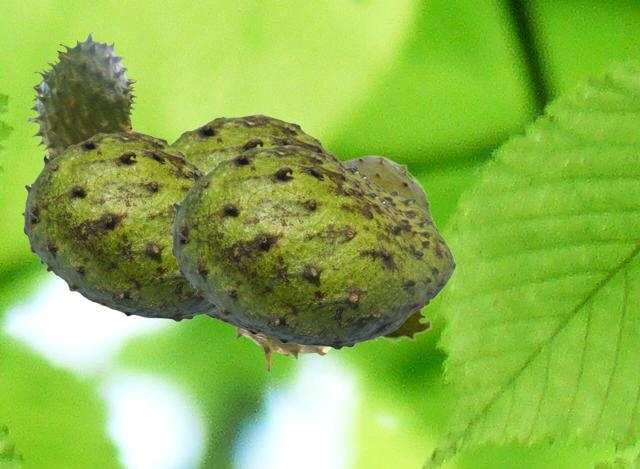guyabano: (170, 113, 440, 335), (169, 144, 455, 349), (21, 130, 217, 321), (344, 154, 439, 344), (27, 32, 138, 165), (211, 319, 331, 373)
